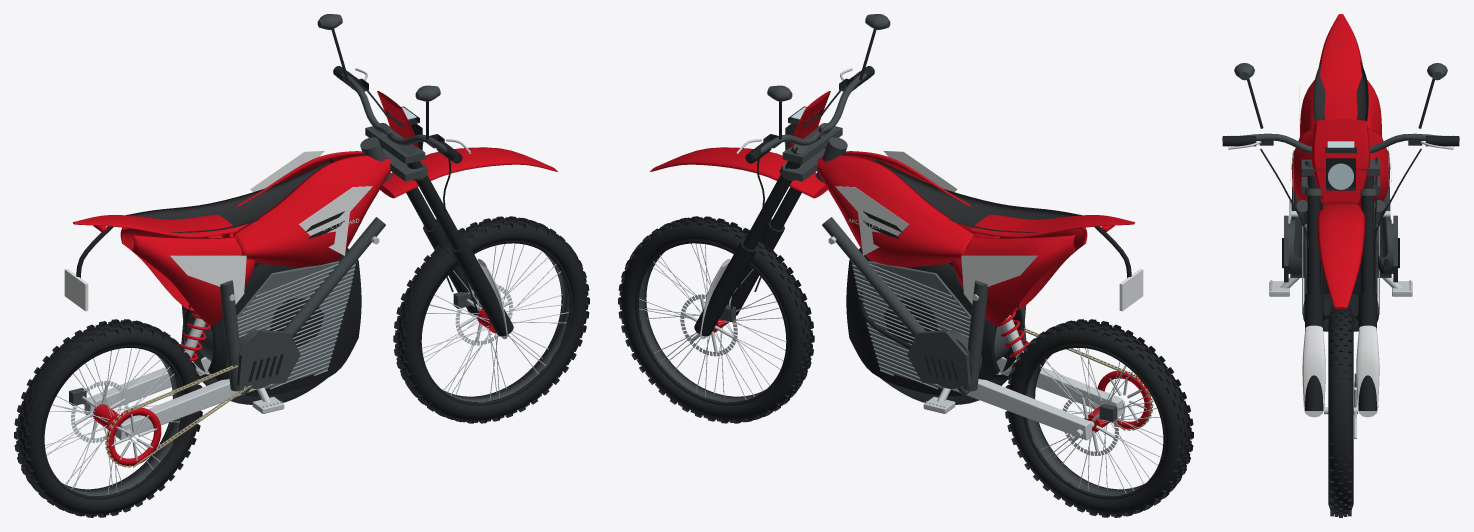
File: arctic-leopard-e-xe-l3e.glb
The picture shows the model from 3 angles, left to right: view 1: azimuth 30°, elevation 25°; view 2: azimuth 150°, elevation 25°; view 3: azimuth 270°, elevation 25°; orthographic projection.
Parts seen in each view (by area): view 1: Bodywork | red, FrontWheel | rubber, RearWheel | rubber, BatteryMount | black, Bodywork | white, BatteryMount | packmetal, Fork | black, Chassis | graphite, RearSuspension | steel, BatteryMount | silvergrey, RearWheel | rubber.001, Bodywork | seat (+15 smaller); view 2: Bodywork | red, FrontWheel | rubber, RearWheel | rubber, BatteryMount | black, Bodywork | white, Fork | black, BatteryMount | packmetal, RearSuspension | steel, Chassis | graphite, BatteryMount | silvergrey, RearWheel | rubber.001, Bodywork | seat (+13 smaller); view 3: Bodywork | red, Fork | black, FrontWheel | rubber, Fork | white, Cockpit | graphite, Chassis | graphite, Cockpit | rubber, Bodywork | seat, FrontWheel | rubber.001, MotorMount | graphite, BatteryMount | black, MotorMount | graphite.001 (+11 smaller).
Part boxes in pixels (x1,y1,x2,y2): Bodywork | red: [73, 91, 557, 325]; FrontWheel | rubber: [397, 219, 586, 420]; RearWheel | rubber: [17, 322, 199, 514]; BatteryMount | black: [184, 248, 361, 404]; Bodywork | white: [64, 150, 372, 311]; BatteryMount | packmetal: [237, 261, 355, 389]; Fork | black: [381, 147, 513, 336]; Chassis | graphite: [181, 137, 391, 396]; RearSuspension | steel: [84, 357, 256, 439]; BatteryMount | silvergrey: [237, 261, 356, 389]; RearWheel | rubber.001: [14, 319, 202, 517]; Bodywork | seat: [123, 159, 334, 232]; Bodywork | red: [650, 91, 1134, 325]; FrontWheel | rubber: [621, 219, 810, 420]; RearWheel | rubber: [1008, 322, 1190, 514]; BatteryMount | black: [846, 248, 1023, 404]; Bodywork | white: [835, 150, 1143, 311]; Fork | black: [694, 147, 826, 336]; BatteryMount | packmetal: [852, 261, 970, 389]; RearSuspension | steel: [951, 357, 1123, 440]; Chassis | graphite: [816, 137, 1026, 396]; BatteryMount | silvergrey: [851, 261, 970, 389]; RearWheel | rubber.001: [1005, 319, 1193, 517]; Bodywork | seat: [873, 159, 1084, 232]; Bodywork | red: [1292, 14, 1389, 308]; Fork | black: [1305, 157, 1377, 410]; FrontWheel | rubber: [1328, 307, 1353, 515]; Fork | white: [1302, 325, 1379, 417]; Cockpit | graphite: [1222, 63, 1459, 153]; Chassis | graphite: [1291, 150, 1390, 257]; Cockpit | rubber: [1222, 136, 1459, 249]; Bodywork | seat: [1313, 46, 1368, 121]; FrontWheel | rubber.001: [1330, 305, 1351, 517]; MotorMount | graphite: [1288, 219, 1393, 277]; BatteryMount | black: [1303, 230, 1388, 331]; MotorMount | graphite.001: [1284, 215, 1397, 282].
Bounding box in the file's own units: 2.21 × 1.47 × 0.8128.
